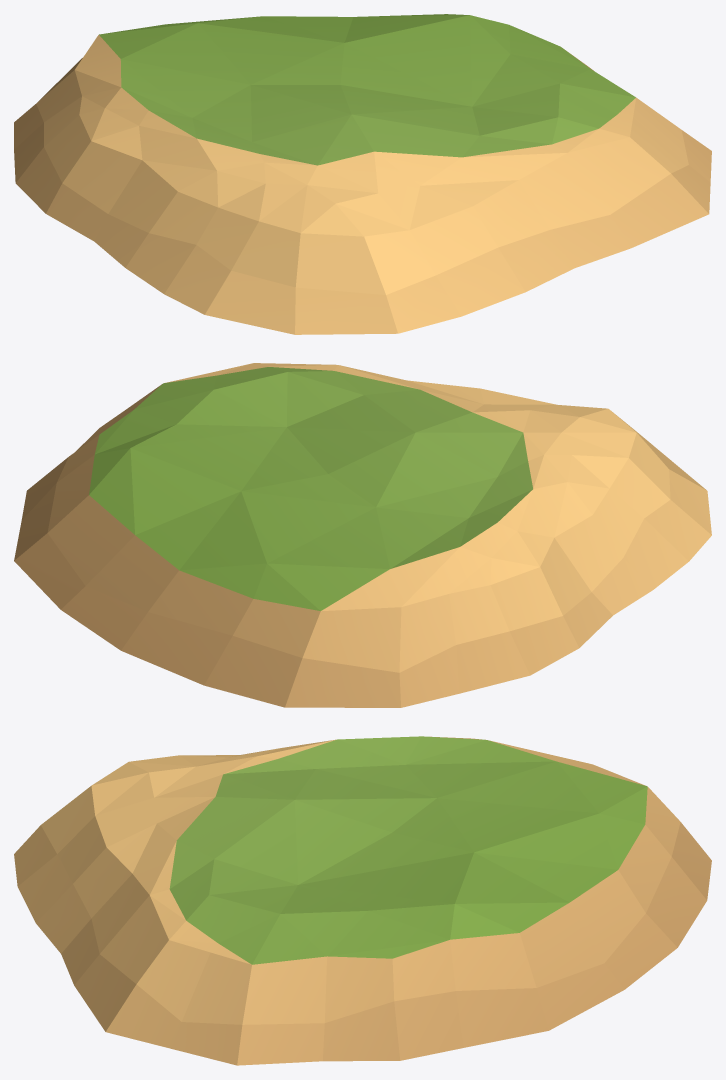
The model's file is island-mountain-arch-3.glb.
The picture shows the model from 3 angles, top to bottom: view 1: azimuth 30°, elevation 25°; view 2: azimuth 150°, elevation 25°; view 3: azimuth 270°, elevation 25°; orthographic projection. The views are drawn at different scales.
Visible parts, largest first — view 1: island mountain arch 3; view 2: island mountain arch 3; view 3: island mountain arch 3.
Part boxes in pixels (x1=…): island mountain arch 3: x1=14, y1=14, x2=711, y2=334; island mountain arch 3: x1=14, y1=363, x2=711, y2=707; island mountain arch 3: x1=14, y1=736, x2=711, y2=1065.
Bounding box in the file's own units: 18.31 × 3.01 × 19.14.
1 material, 1 textured.
